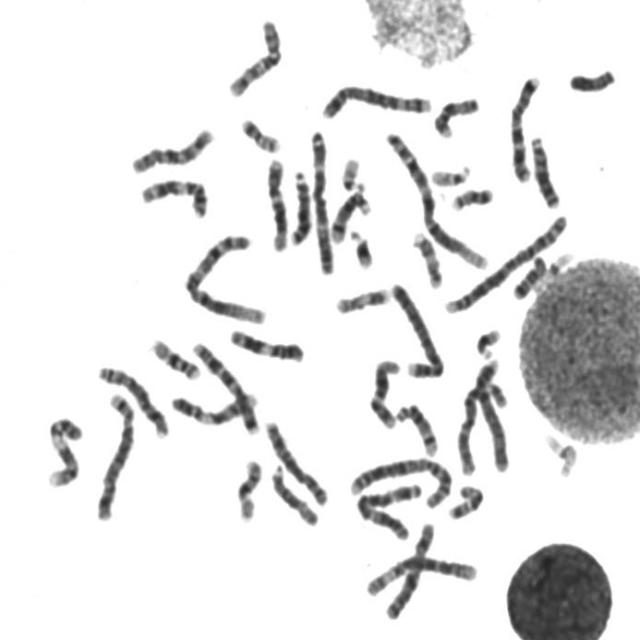A1: (380, 124, 491, 272), (178, 226, 270, 326)
A2: (440, 207, 572, 316), (345, 450, 456, 510)
A3: (305, 122, 337, 276), (351, 474, 424, 540)
B4: (385, 275, 447, 380), (469, 352, 513, 474)
B5: (90, 386, 138, 523), (316, 78, 435, 120)
C10: (222, 11, 286, 98), (126, 120, 217, 176)
C11: (135, 170, 211, 220), (225, 322, 308, 364)
C12: (261, 150, 291, 253), (364, 353, 403, 430)
C6: (452, 373, 510, 478), (358, 549, 481, 598)
C7: (186, 334, 262, 436), (504, 67, 544, 184)
C8: (260, 414, 330, 509), (92, 358, 172, 439)
C9: (165, 384, 262, 430), (41, 409, 86, 488)
D13: (524, 128, 564, 210), (285, 164, 314, 246)
D14: (390, 398, 441, 458), (325, 183, 373, 244)
D15: (265, 458, 321, 528), (429, 90, 483, 140)
E16: (146, 331, 203, 381), (231, 452, 264, 522)
E17: (407, 226, 445, 290), (330, 279, 393, 316)
E18: (507, 250, 550, 301), (443, 478, 486, 520)
F19: (540, 428, 580, 478), (538, 249, 578, 286)
F20: (234, 110, 284, 154), (446, 180, 496, 212)
G21: (345, 223, 377, 271), (470, 321, 503, 360)
G22: (426, 158, 474, 188), (336, 150, 367, 192)
X: (378, 515, 438, 622)
Y: (563, 61, 619, 94)
